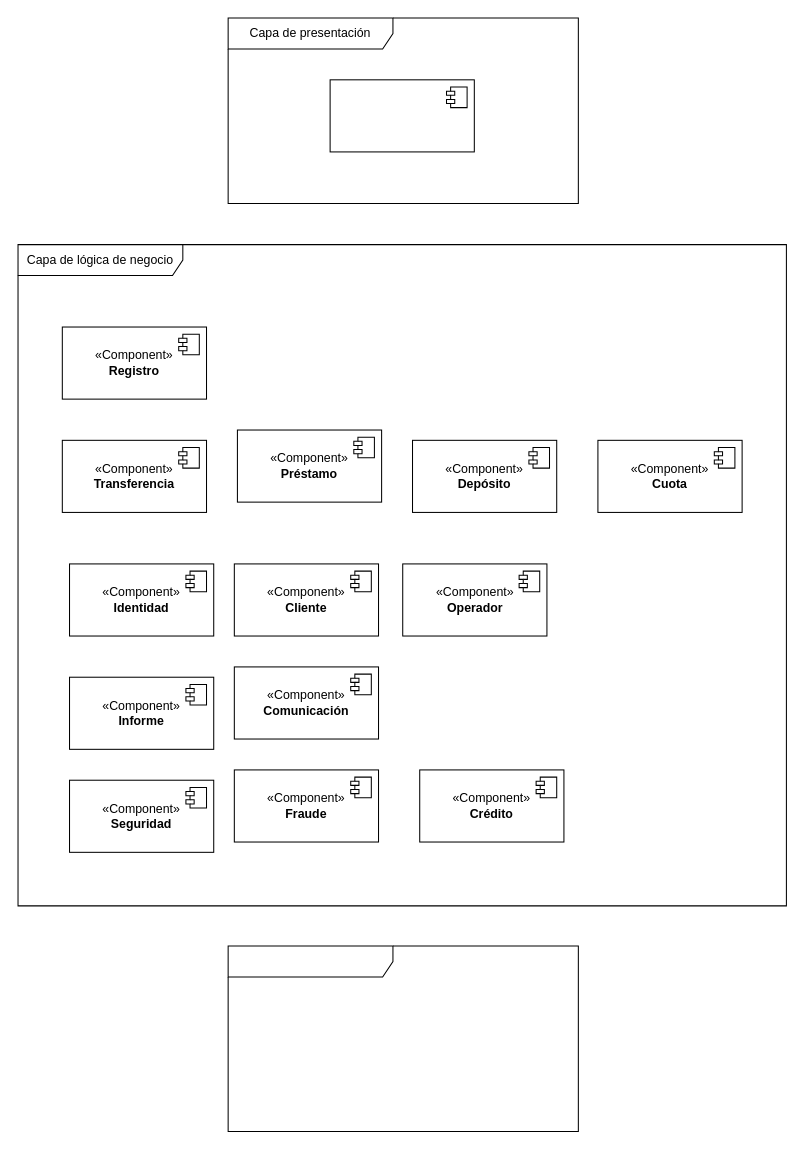
The diagram is 804 pixels wide and 1149 high, and some of its shapes have lost their labels. The shapes that lost their labels are listed below. From the top down, each one's centre as x and y in pixels, then its label:
At point 401,115: "«Component» WebApp".
At point 402,1038: "Capa de datos".
